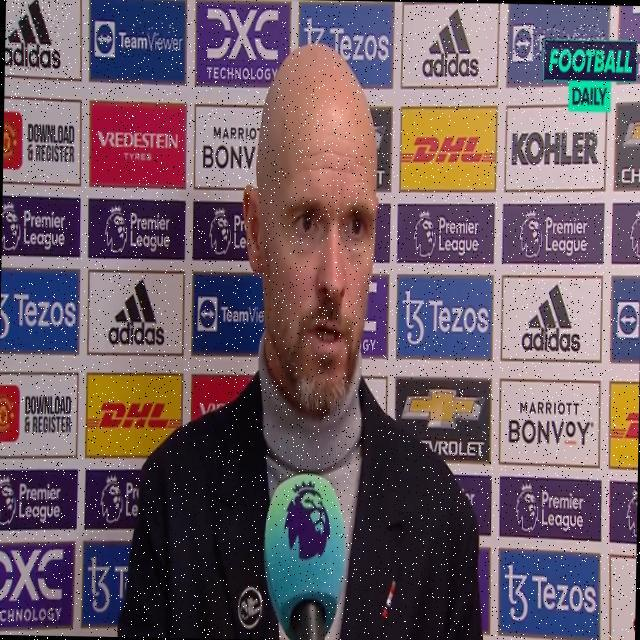Adidas: (422, 2, 483, 79), (520, 280, 582, 355), (4, 0, 63, 70), (109, 279, 167, 348)
Chevrolet: (400, 385, 487, 458)
Kohler: (511, 128, 599, 168)
TeamViewer: (512, 22, 605, 63), (95, 22, 184, 60)
